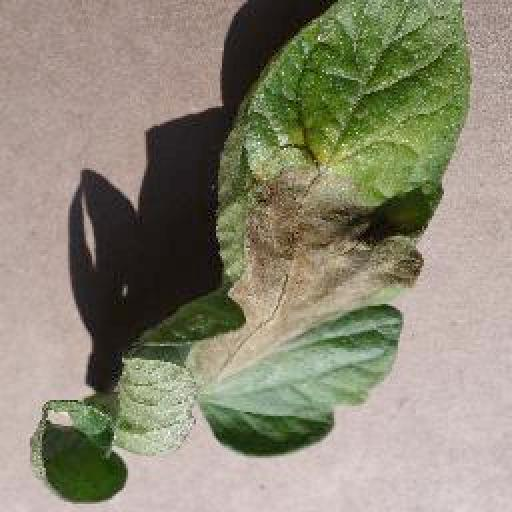disease_tomato: (112, 0, 476, 458)
